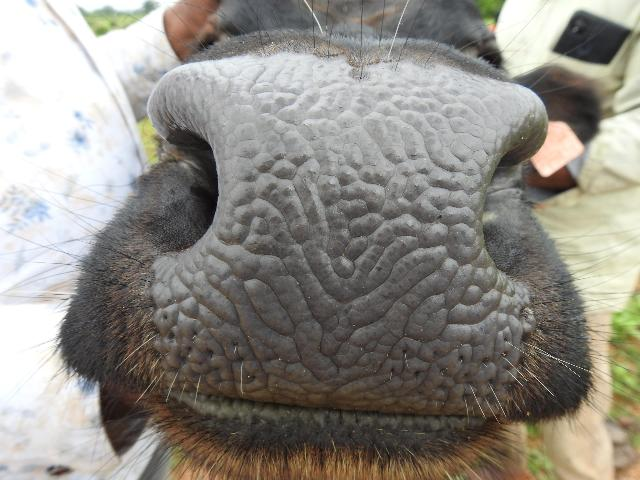Muzzle: (154, 60, 536, 416)
